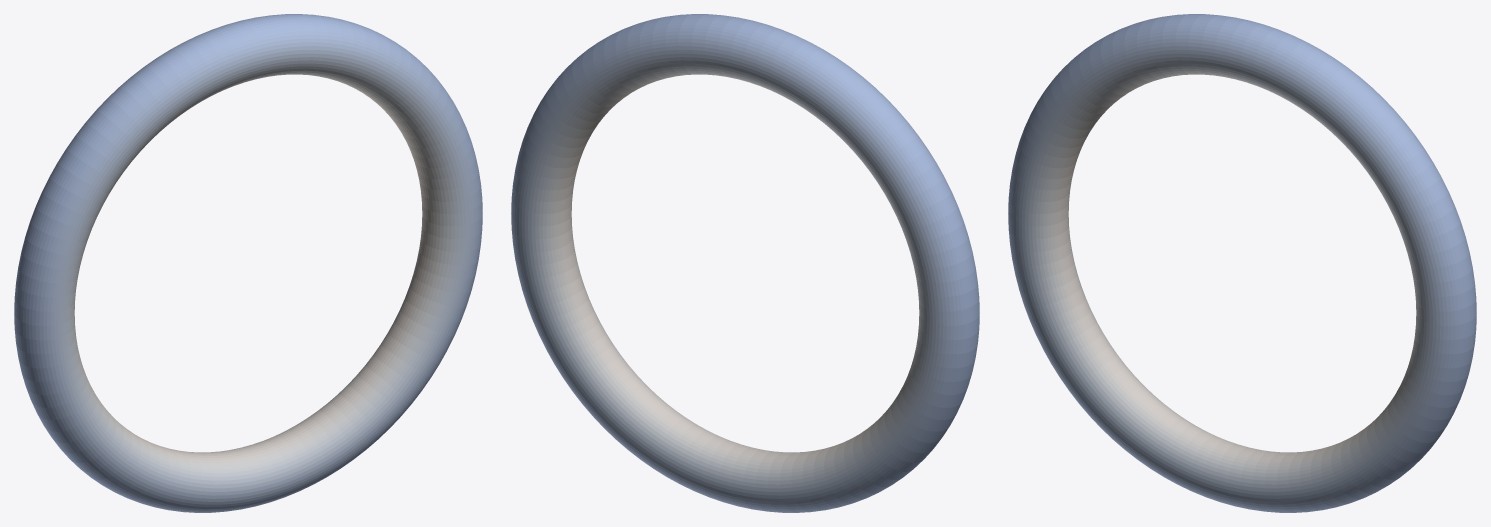
3 views of the same model, side by side, from view 1: azimuth 30°, elevation 25°; view 2: azimuth 150°, elevation 25°; view 3: azimuth 330°, elevation 25° (orthographic).
Parts seen in each view (by area): view 1: world; view 2: world; view 3: world.
Boxes of the visible parts, box(x1,y1,x2,y2) form: world: box(14, 14, 482, 512); world: box(511, 14, 979, 512); world: box(1008, 14, 1476, 512).
Size of the model in its own units: 31.6 by 31.6 by 3.59.
